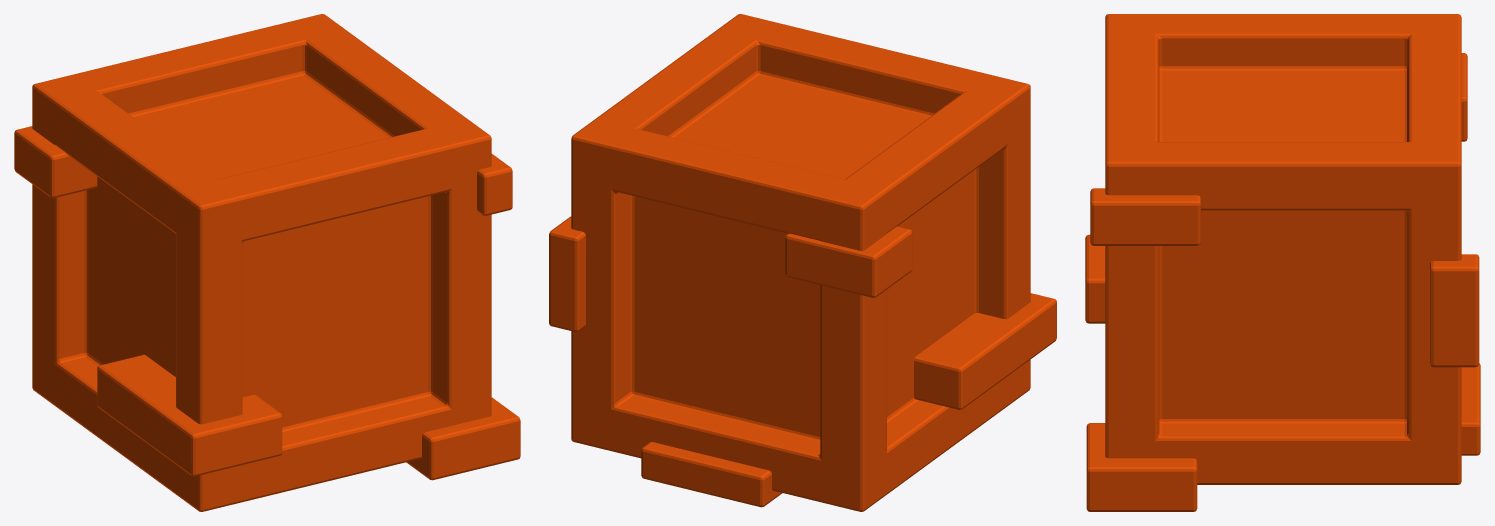
File: CUBES_LVL2.fbx
The picture shows the model from 3 angles, left to right: view 1: azimuth 30°, elevation 25°; view 2: azimuth 150°, elevation 25°; view 3: azimuth 270°, elevation 25°; orthographic projection. The views are drawn at different scales.
Visible parts, largest first — view 1: Cube.043; view 2: Cube.043; view 3: Cube.043.
Boxes of the visible parts, left/top/right/bottom form: Cube.043: left=14, top=14, right=520, bottom=511; Cube.043: left=549, top=14, right=1056, bottom=511; Cube.043: left=1085, top=14, right=1480, bottom=511.
Bounding box in the file's own units: 113 × 105 × 111.
